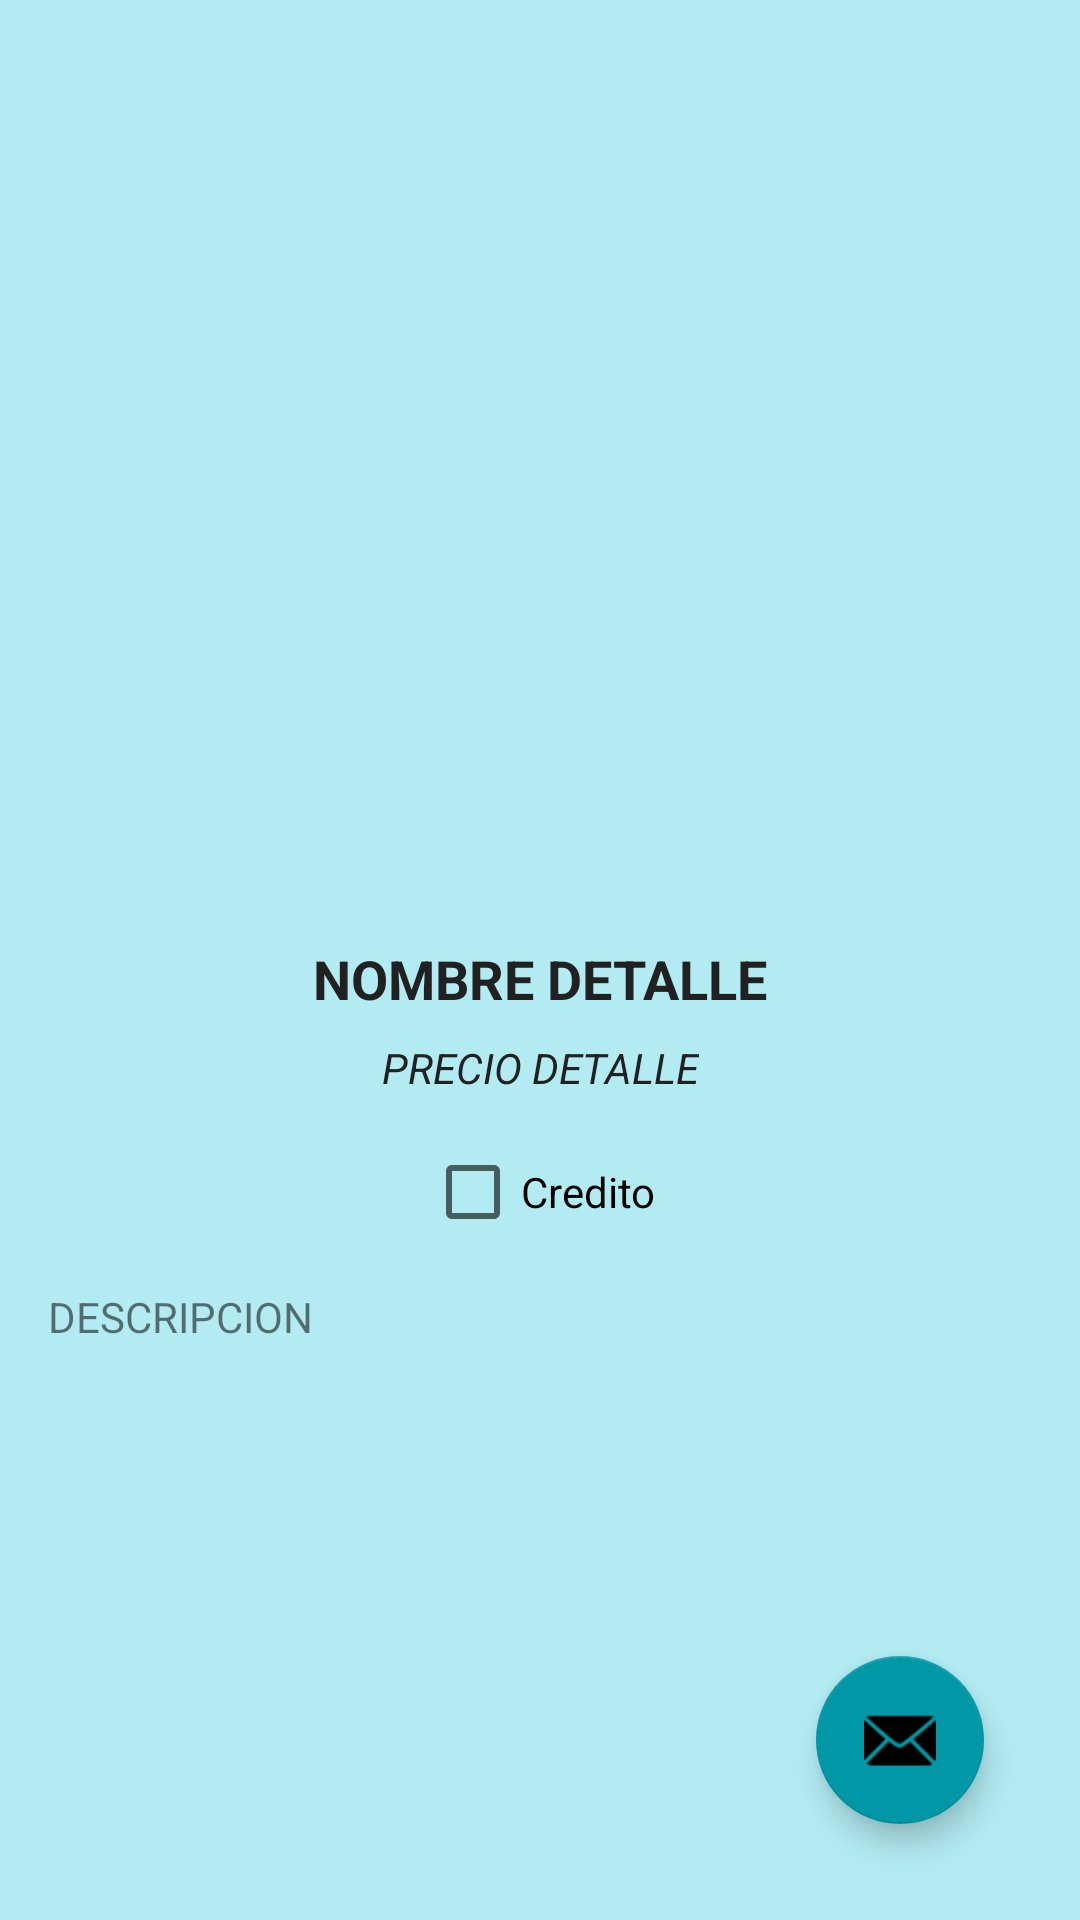

Icon click points for this 1080w x 1920h phone screenshot, format point (x, y):
ENVIAR EMAIL: point (900, 1740)
